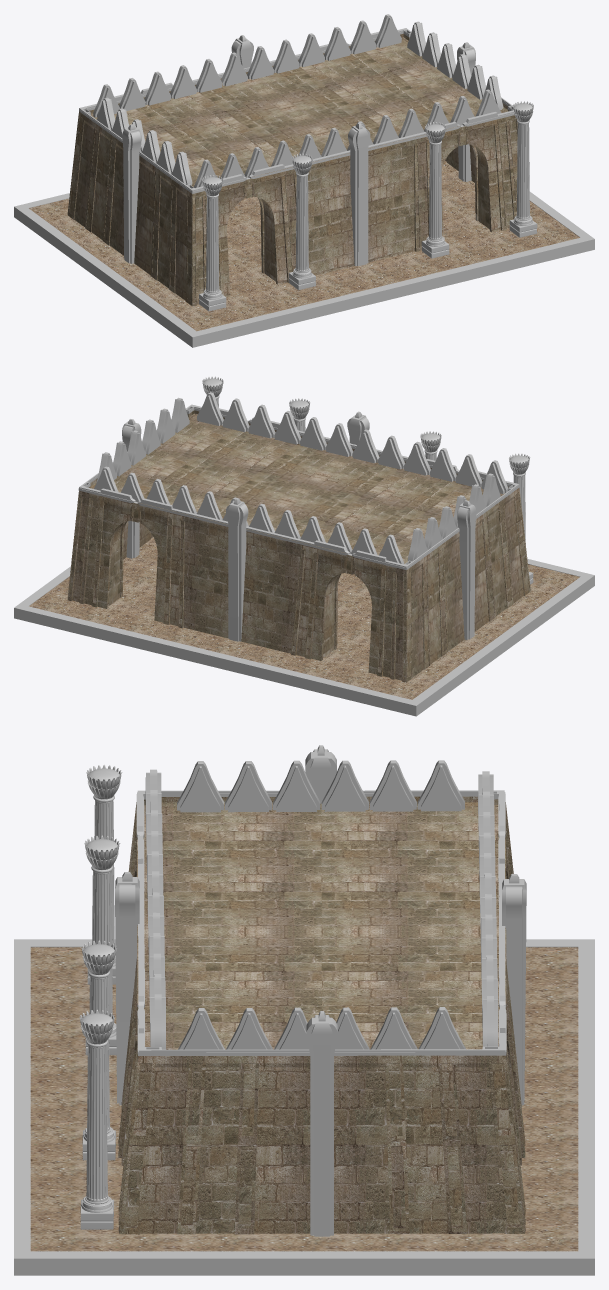
Rendered from objTemple.obj.
3 views of the same model, one above another, from view 1: azimuth 30°, elevation 25°; view 2: azimuth 150°, elevation 25°; view 3: azimuth 270°, elevation 25° (orthographic). The views are drawn at different scales.
Visible parts, largest first — view 1: temnple structure, floor temnple, temnple fence, temnple pillars1, temnple pillars column548, temnple pillars column537, temnple pillars column547, temnple column538 pillars; view 2: temnple structure, floor temnple, temnple fence, temnple pillars1, temnple pillars column547, temnple pillars column537, temnple column538 pillars; view 3: temnple structure, floor temnple, temnple fence, temnple pillars1, temnple pillars column548, temnple column538 pillars, temnple pillars column537, temnple pillars column547.
Part boxes in pixels (x1,y1,x2,y2): temnple structure: (67,28,530,306); floor temnple: (14,161,594,347); temnple fence: (93,14,503,187); temnple pillars1: (231,35,370,266); temnple pillars column548: (509,101,537,237); temnple pillars column537: (421,122,449,258); temnple pillars column547: (199,175,226,311); temnple column538 pillars: (288,153,315,290); temnple structure: (67,404,530,682); floor temnple: (14,537,594,716); temnple fence: (94,392,507,564); temnple pillars1: (226,411,369,641); temnple pillars column547: (509,453,533,584); temnple pillars column537: (289,398,310,431); temnple column538 pillars: (420,431,441,460); temnple structure: (118,745,525,1236); floor temnple: (14,939,594,1275); temnple fence: (145,760,498,1049); temnple pillars1: (115,872,526,1106); temnple pillars column548: (79,1009,115,1229); temnple column538 pillars: (84,835,120,1055); temnple pillars column537: (81,940,117,1160); temnple pillars column547: (86,764,122,984).
Size of the model in its own units: 32.45 by 12.12 by 24.95.
